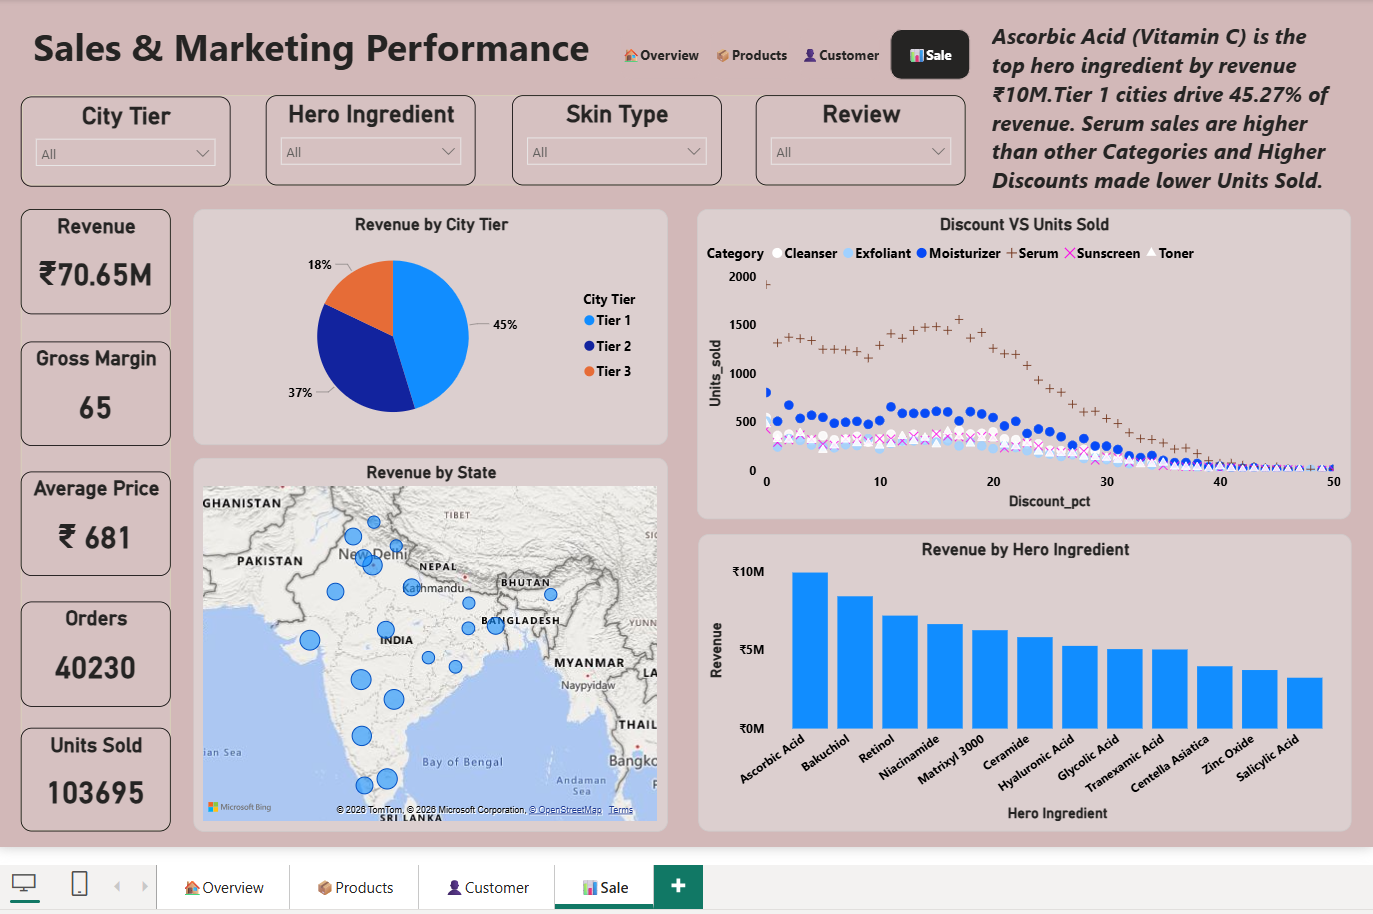

Layout of this report page (visuals, bound fields, positions):
{"tool":"powerbi","page":{"name":"📊Sale","canvas":[1380,850],"ordinal":3},"visuals":[{"type":"shape","box":[23.8,210.6,150.4,624.3],"z":0},{"type":"clusteredColumnChart","title":"Revenue by Hero Ingredient","fields":{"Y":["Measure_Analysis.Revenue"],"Category":["Skincare.hero_ingredient"]},"box":[703.3,536.7,655,298.3],"z":1000},{"type":"pieChart","title":"Revenue by City Tier","fields":{"Y":["Measure_Analysis.Revenue"],"Category":["Skincare.city_tier"]},"box":[196.8,210.6,476.4,236.9],"z":2000},{"type":"scatterChart","title":"Discount VS Units Sold","fields":{"Y":["Skincare.units_sold"],"X":["Skincare.discount_pct"],"Series":["Skincare.category"]},"box":[702,210.6,655.7,310.9],"z":3000},{"type":"map","title":"Revenue by State","fields":{"Category":["Skincare.state"],"Size":["Measure_Analysis.Revenue"]},"box":[196.8,460.1,476.4,374.8],"z":4000},{"type":"card","title":"Units Sold","fields":{"Values":["Sum(Skincare.units_sold)"]},"box":[23.8,730.9,150.4,104.1],"z":5000},{"type":"card","title":"Orders","fields":{"Values":["Measure_Analysis.Orders"]},"box":[23.8,604.3,150.4,105.3],"z":6000},{"type":"card","title":"Average Price","fields":{"Values":["Avg(Skincare.Price)"]},"box":[23.8,473.9,150.4,105],"z":7000},{"type":"card","title":"Gross Margin","fields":{"Values":["Max(Skincare.gross_margin_pct)"]},"box":[23.8,343.5,150.4,105],"z":8000},{"type":"card","title":"Revenue","fields":{"Values":["Measure_Analysis.Revenue"]},"box":[23.8,210.6,150.4,105.3],"z":9000},{"type":"textbox","box":[23.8,17.6,582.9,79],"z":10000},{"type":"shape","box":[25.1,96.5,946.5,90.3],"z":11000},{"type":"image","box":[615.5,30.1,96.5,53.9],"z":12000},{"type":"pageNavigator","box":[625.6,30.1,353.5,51.4],"z":13000},{"type":"textbox","box":[992.9,17.6,363.6,193.1],"z":14000},{"type":"slicer","title":"City Tier","fields":{"Values":["Skincare.city_tier"]},"box":[23.8,97.8,210,90.3],"z":15000},{"type":"slicer","title":"Hero Ingredient","fields":{"Values":["Skincare.hero_ingredient"]},"box":[269.5,96.5,210.6,90.3],"z":16000},{"type":"slicer","title":"Skin Type","fields":{"Values":["Skincare.skin_type_target"]},"box":[516.5,96.5,210,90.3],"z":17000},{"type":"slicer","title":"Review","fields":{"Values":["Skincare.review_sentiment"]},"box":[761,96.5,210.6,90.3],"z":18000}]}

Visuals, with their boxes on the page's 1380x850 design canvas (x1, y1, x2, y2). These are canvas units, not pixel positions in the 1373x914 screenshot, which may show the page scaled, cropped or inside an application window:
shape: <region>24, 211, 174, 835</region>
"Revenue by Hero Ingredient" clusteredColumnChart: <region>703, 537, 1358, 835</region>
"Revenue by City Tier" pieChart: <region>197, 211, 673, 448</region>
"Discount VS Units Sold" scatterChart: <region>702, 211, 1358, 522</region>
"Revenue by State" map: <region>197, 460, 673, 835</region>
"Units Sold" card: <region>24, 731, 174, 835</region>
"Orders" card: <region>24, 604, 174, 710</region>
"Average Price" card: <region>24, 474, 174, 579</region>
"Gross Margin" card: <region>24, 344, 174, 448</region>
"Revenue" card: <region>24, 211, 174, 316</region>
textbox: <region>24, 18, 607, 97</region>
shape: <region>25, 96, 972, 187</region>
image: <region>616, 30, 712, 84</region>
pageNavigator: <region>626, 30, 979, 82</region>
textbox: <region>993, 18, 1356, 211</region>
"City Tier" slicer: <region>24, 98, 234, 188</region>
"Hero Ingredient" slicer: <region>270, 96, 480, 187</region>
"Skin Type" slicer: <region>516, 96, 726, 187</region>
"Review" slicer: <region>761, 96, 972, 187</region>
